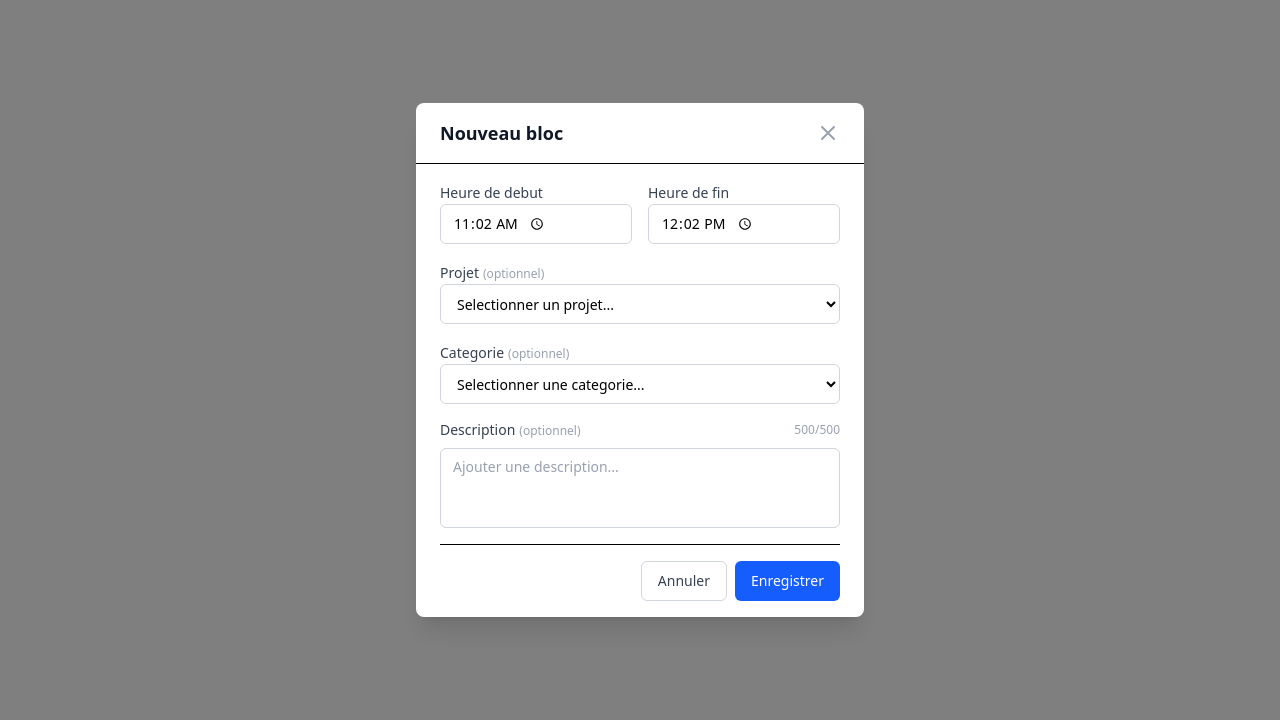
Test: BlockModal › Validation › shows error when end time is missing
// Clear end time
Clear the time field labelled "Heure de fin" at point(744, 224), box x1=648 y1=204 x2=840 y2=244
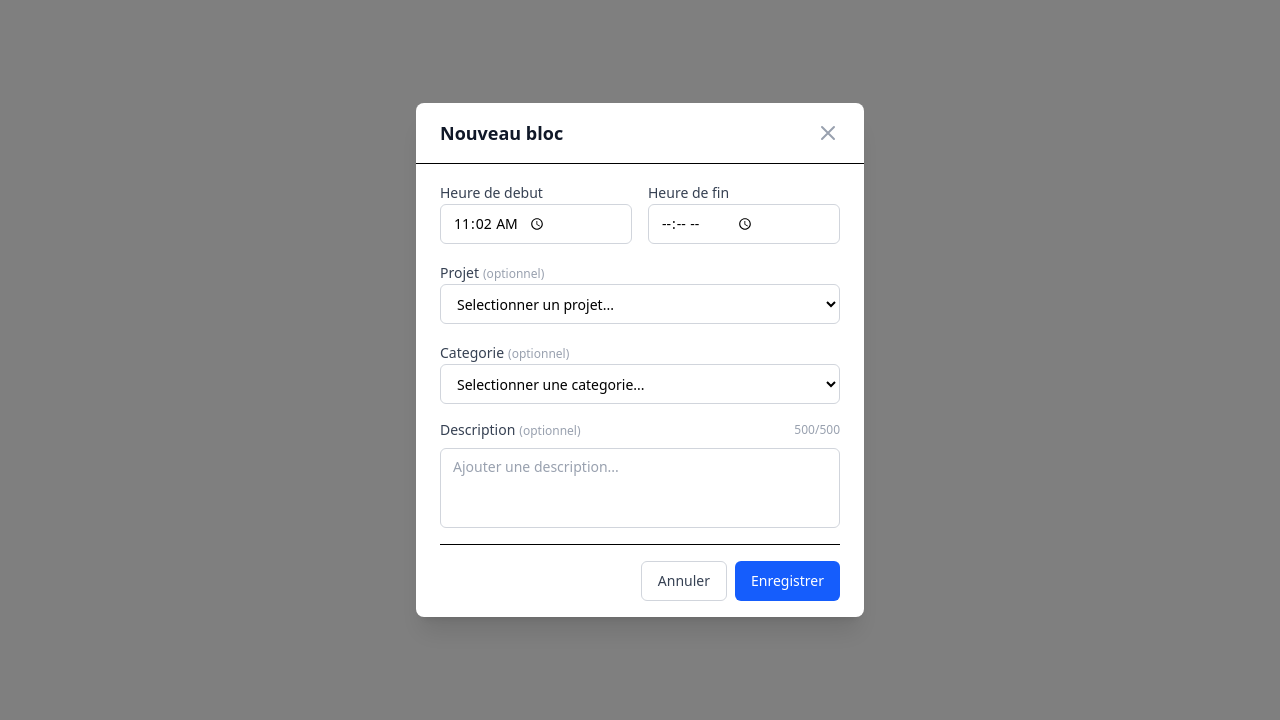
// Try to save
Click the button "Enregistrer" at point(788, 581), box x1=735 y1=561 x2=840 y2=601
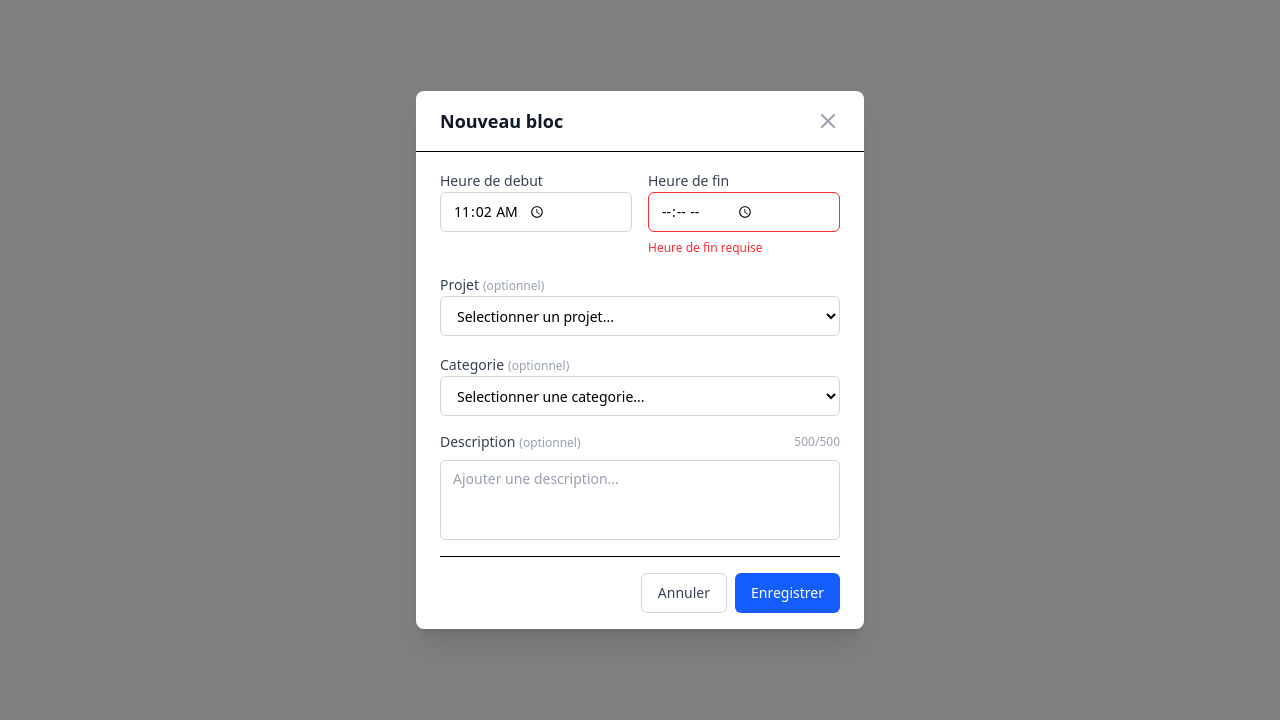
Expected: the text "Heure de fin requise" is shown, x1=648 y1=239 x2=763 y2=256
